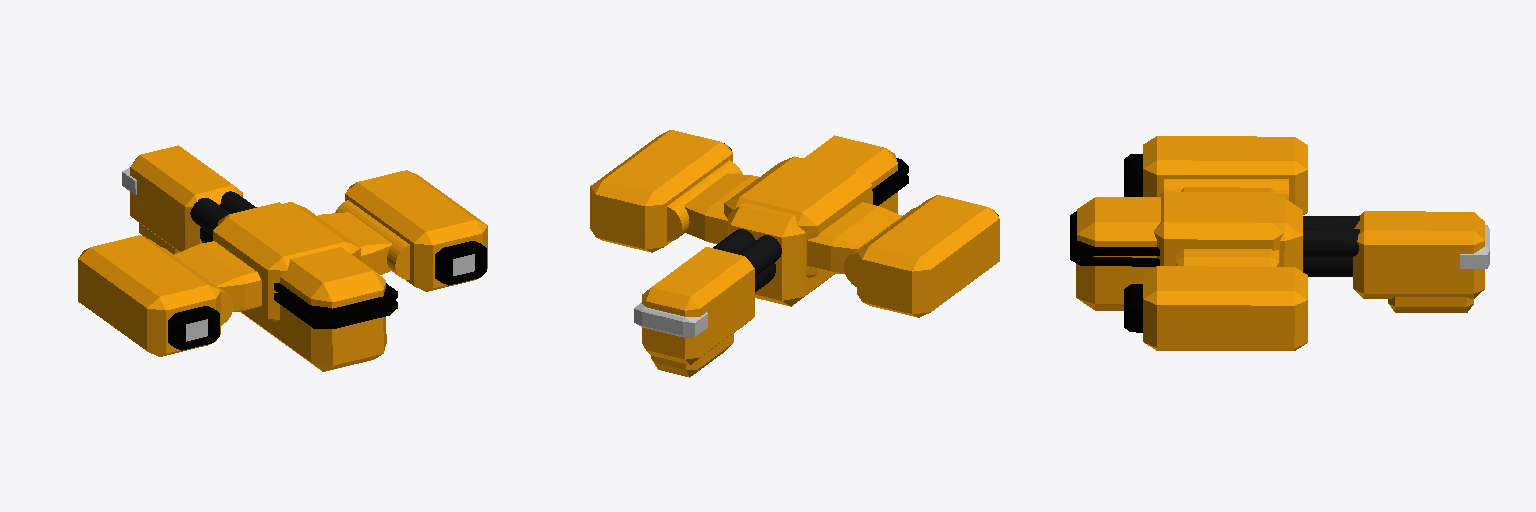
The model's file is ship.obj.
The picture shows the model from 3 angles: view 1: azimuth 30°, elevation 25°; view 2: azimuth 150°, elevation 25°; view 3: azimuth 270°, elevation 25°; orthographic projection.
Parts seen in each view (by area): view 1: wingR2, body1, wingL2, body2, head1, wings1, exhaustR1, exhaustL1, neck, rear1, wingL1, rear1.001; view 2: wingR2, wingL2, head1, body1, body2, wings1, neck, headGlass, wingL1, head2; view 3: wingL2, head1, body1, wingR2, body2, neck, wings1, head2, wingR1, rear1, exhaustL1, rear1.001 (+2 smaller).
Part boxes in pixels (x1,y1,x2,y2): wingR2: (78, 235, 220, 356); body1: (218, 202, 386, 371); wingL2: (345, 170, 487, 291); body2: (213, 202, 360, 322); head1: (130, 145, 242, 251); wings1: (174, 212, 391, 311); exhaustR1: (168, 306, 219, 350); exhaustL1: (435, 241, 486, 285); neck: (190, 191, 256, 242); rear1: (274, 283, 397, 318); wingL1: (335, 200, 409, 279); rear1.001: (274, 293, 397, 328); wingR2: (857, 195, 999, 317); wingL2: (590, 130, 732, 252); head1: (642, 247, 754, 364); body1: (728, 135, 897, 306); body2: (724, 156, 872, 277); wings1: (684, 173, 901, 273); neck: (713, 229, 781, 291); headGlass: (634, 302, 707, 337); wingL1: (667, 160, 742, 241); head2: (651, 333, 733, 377); wingL2: (1143, 266, 1307, 350); head1: (1353, 211, 1484, 298); body1: (1076, 197, 1302, 310); wingR2: (1143, 136, 1307, 214); body2: (1154, 191, 1283, 266); neck: (1303, 216, 1359, 276); wings1: (1176, 187, 1278, 266); head2: (1388, 297, 1473, 312); wingR1: (1164, 179, 1288, 199); rear1: (1070, 211, 1159, 255); exhaustL1: (1124, 284, 1142, 332); rear1.001: (1070, 250, 1159, 266).
Size of the model in its own units: 1.39 by 0.3836 by 1.48.